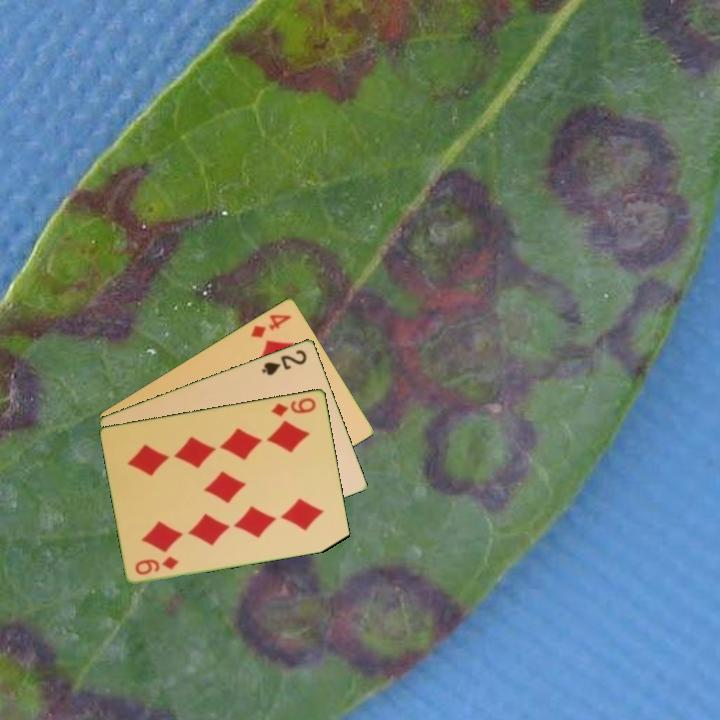2s: (258, 346, 310, 378)
4d: (247, 310, 294, 340)
9d: (268, 394, 319, 420), (132, 552, 182, 577)
